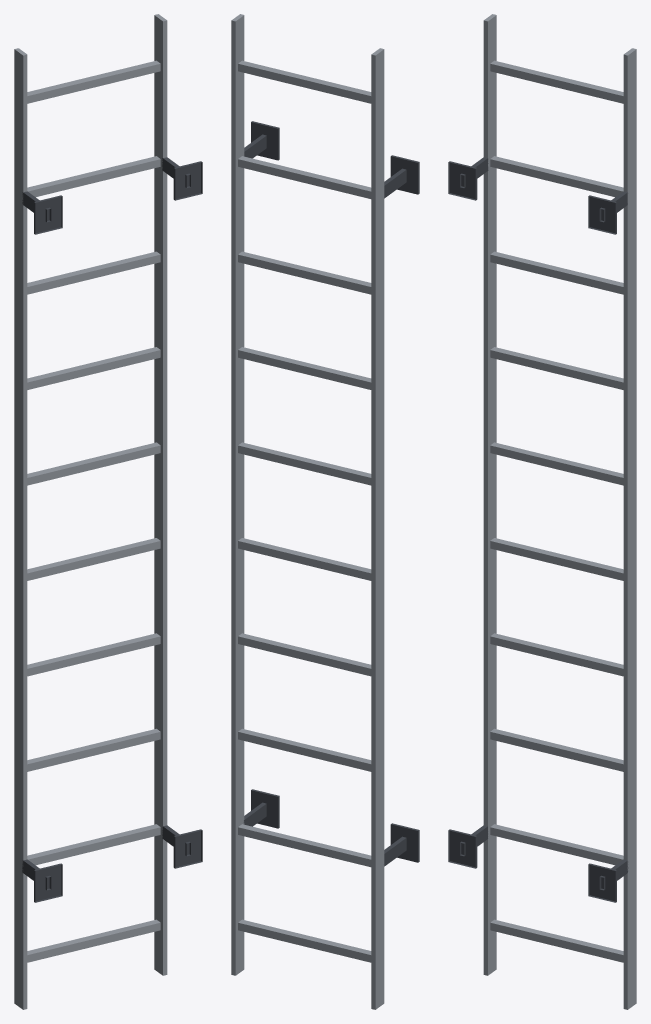
The model's file is prop_ladder.glb.
3 views of the same model, side by side, from view 1: azimuth 30°, elevation 25°; view 2: azimuth 150°, elevation 25°; view 3: azimuth 330°, elevation 25° (orthographic).
Parts seen in each view (by area): view 1: prop_ladder__mesh; view 2: prop_ladder__mesh; view 3: prop_ladder__mesh.
Boxes of the visible parts, <box> form: prop_ladder__mesh: <box>14,14,202,1009</box>; prop_ladder__mesh: <box>231,14,419,1009</box>; prop_ladder__mesh: <box>448,14,636,1009</box>.
Bounding box in the file's own units: 0.55 × 3 × 0.185.
Materials: 1 (1 with a texture image).
